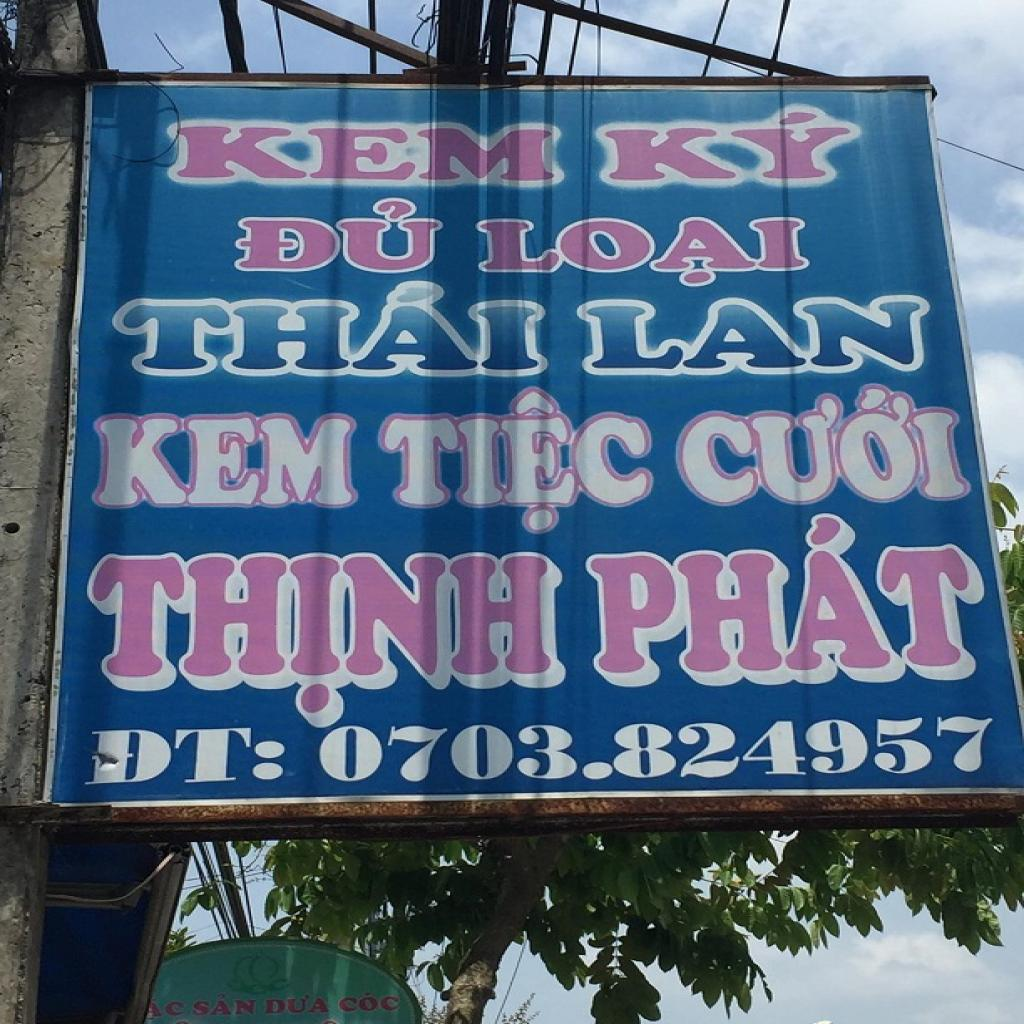text: (84, 546, 577, 719), (582, 507, 1002, 699), (311, 706, 1009, 790), (108, 280, 560, 384), (673, 376, 982, 518), (376, 386, 661, 534), (566, 285, 938, 381), (168, 113, 568, 187), (470, 211, 823, 290), (87, 412, 365, 510), (592, 104, 855, 188), (224, 196, 452, 277), (77, 722, 293, 793), (189, 992, 261, 1020), (262, 990, 334, 1018), (142, 998, 188, 1022)
